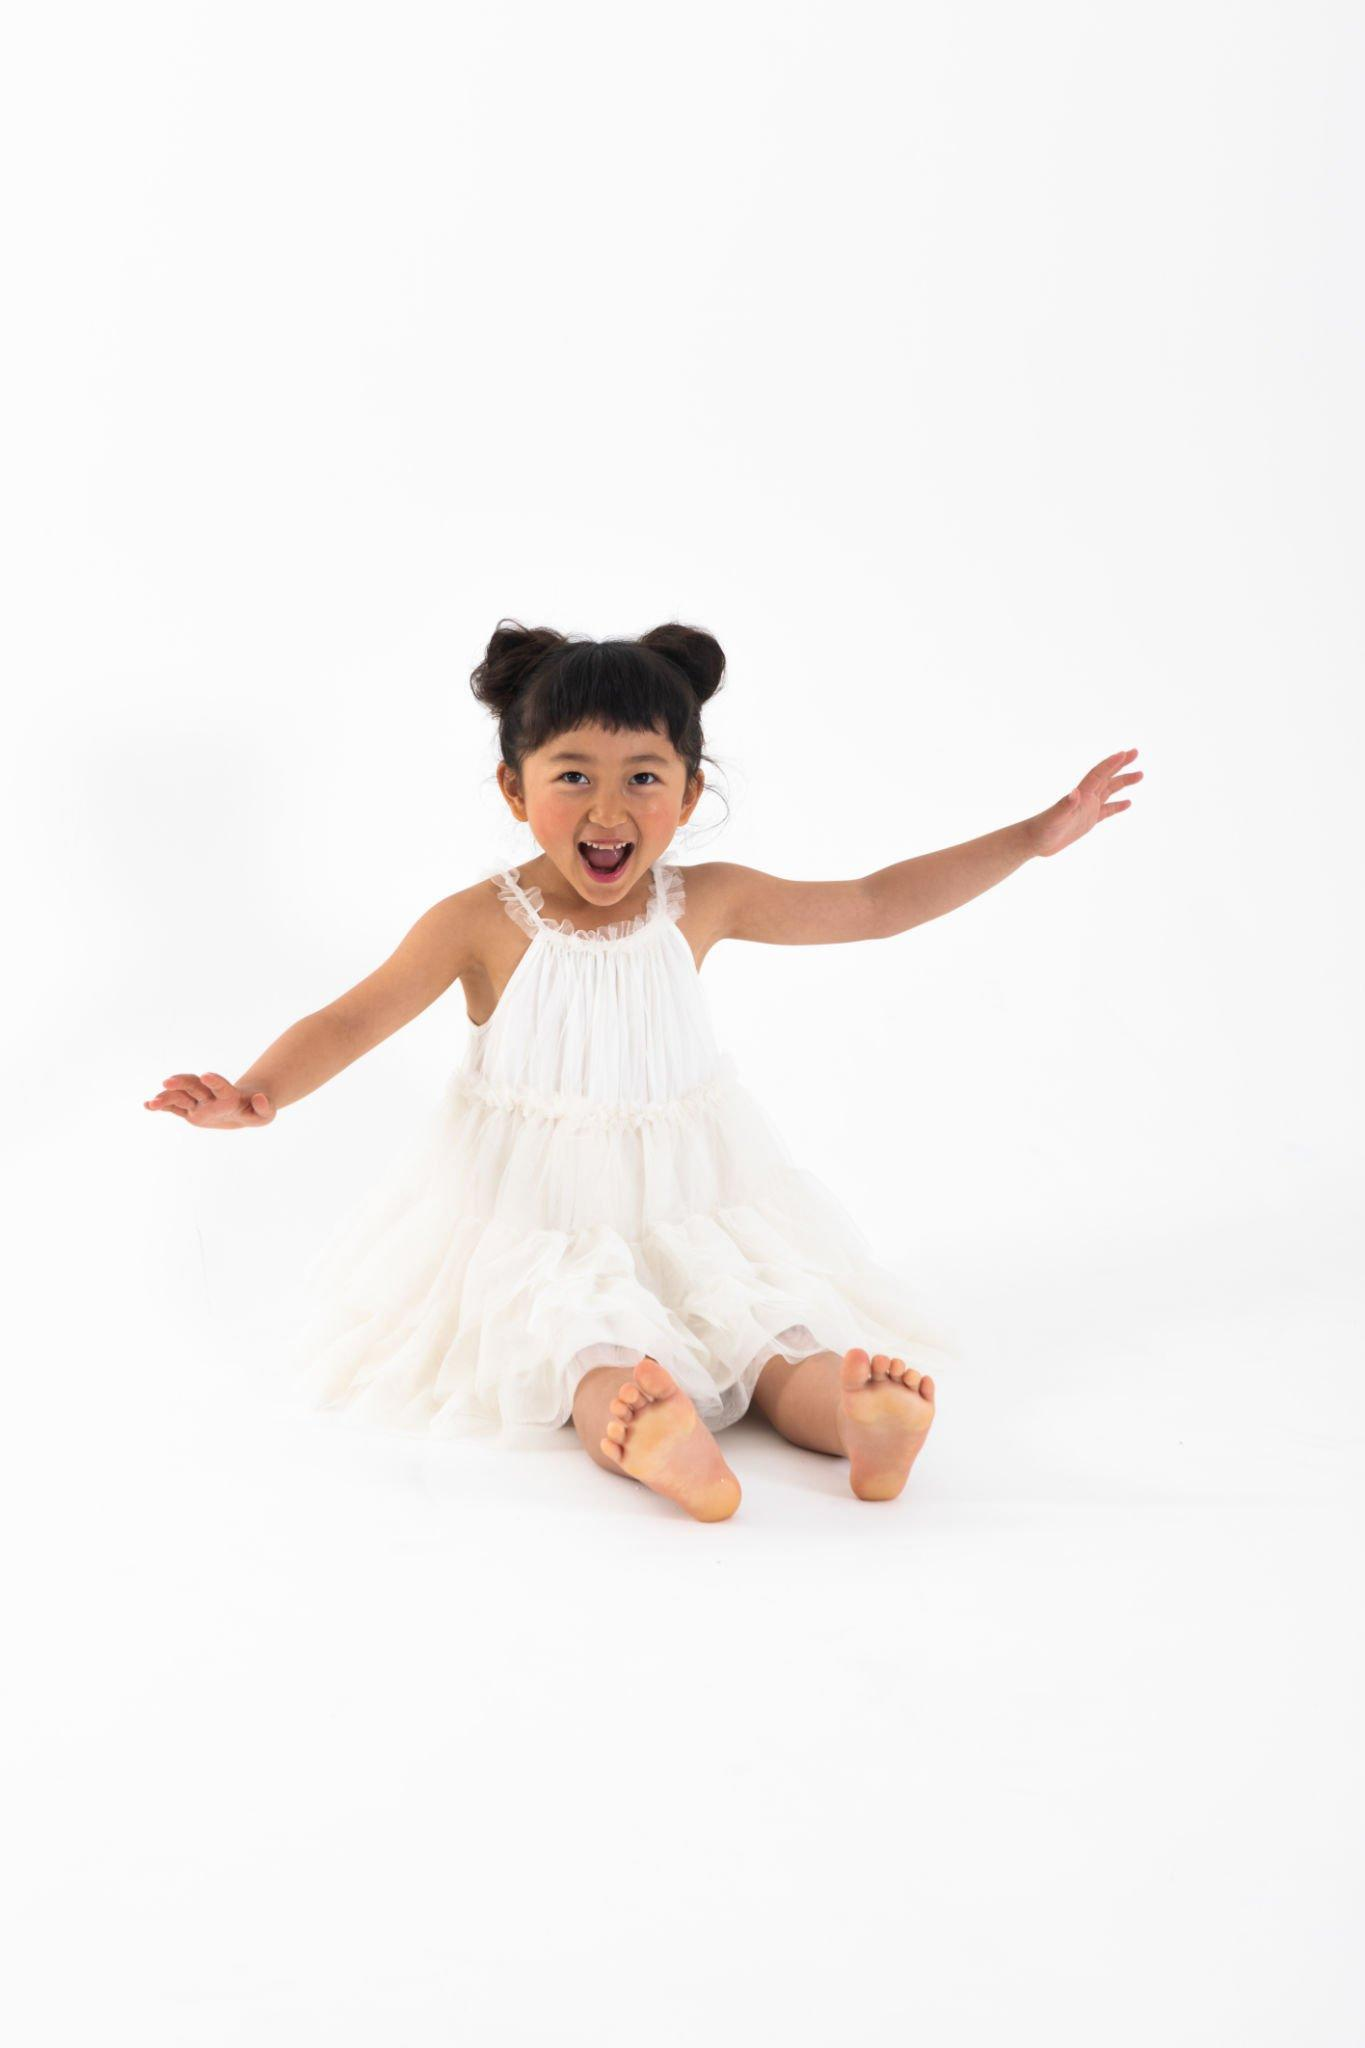Healthy: (497, 665, 713, 912)
